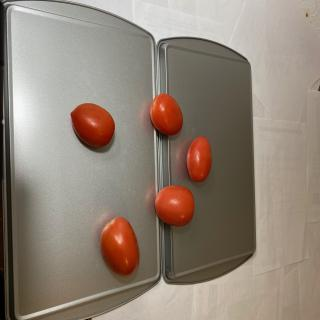Tomato: (100, 216, 140, 278), (70, 103, 115, 148), (154, 185, 194, 226), (149, 93, 183, 136), (186, 136, 212, 182)
